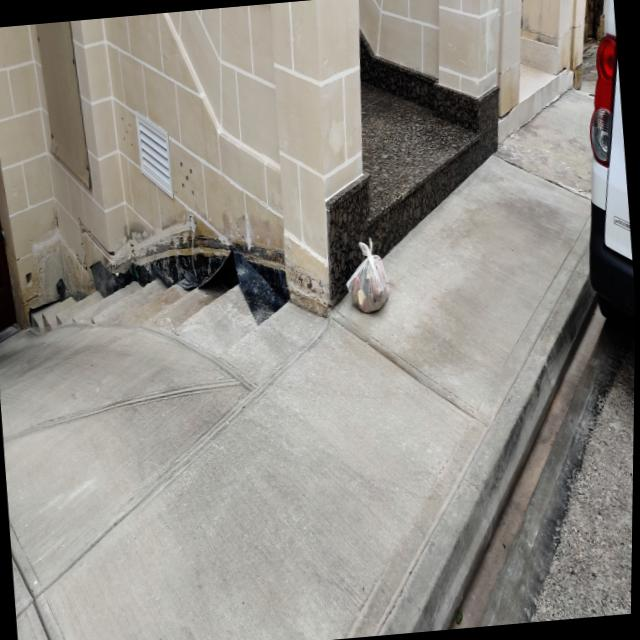Organic Waste -White Bags-: (345, 255, 391, 315)
